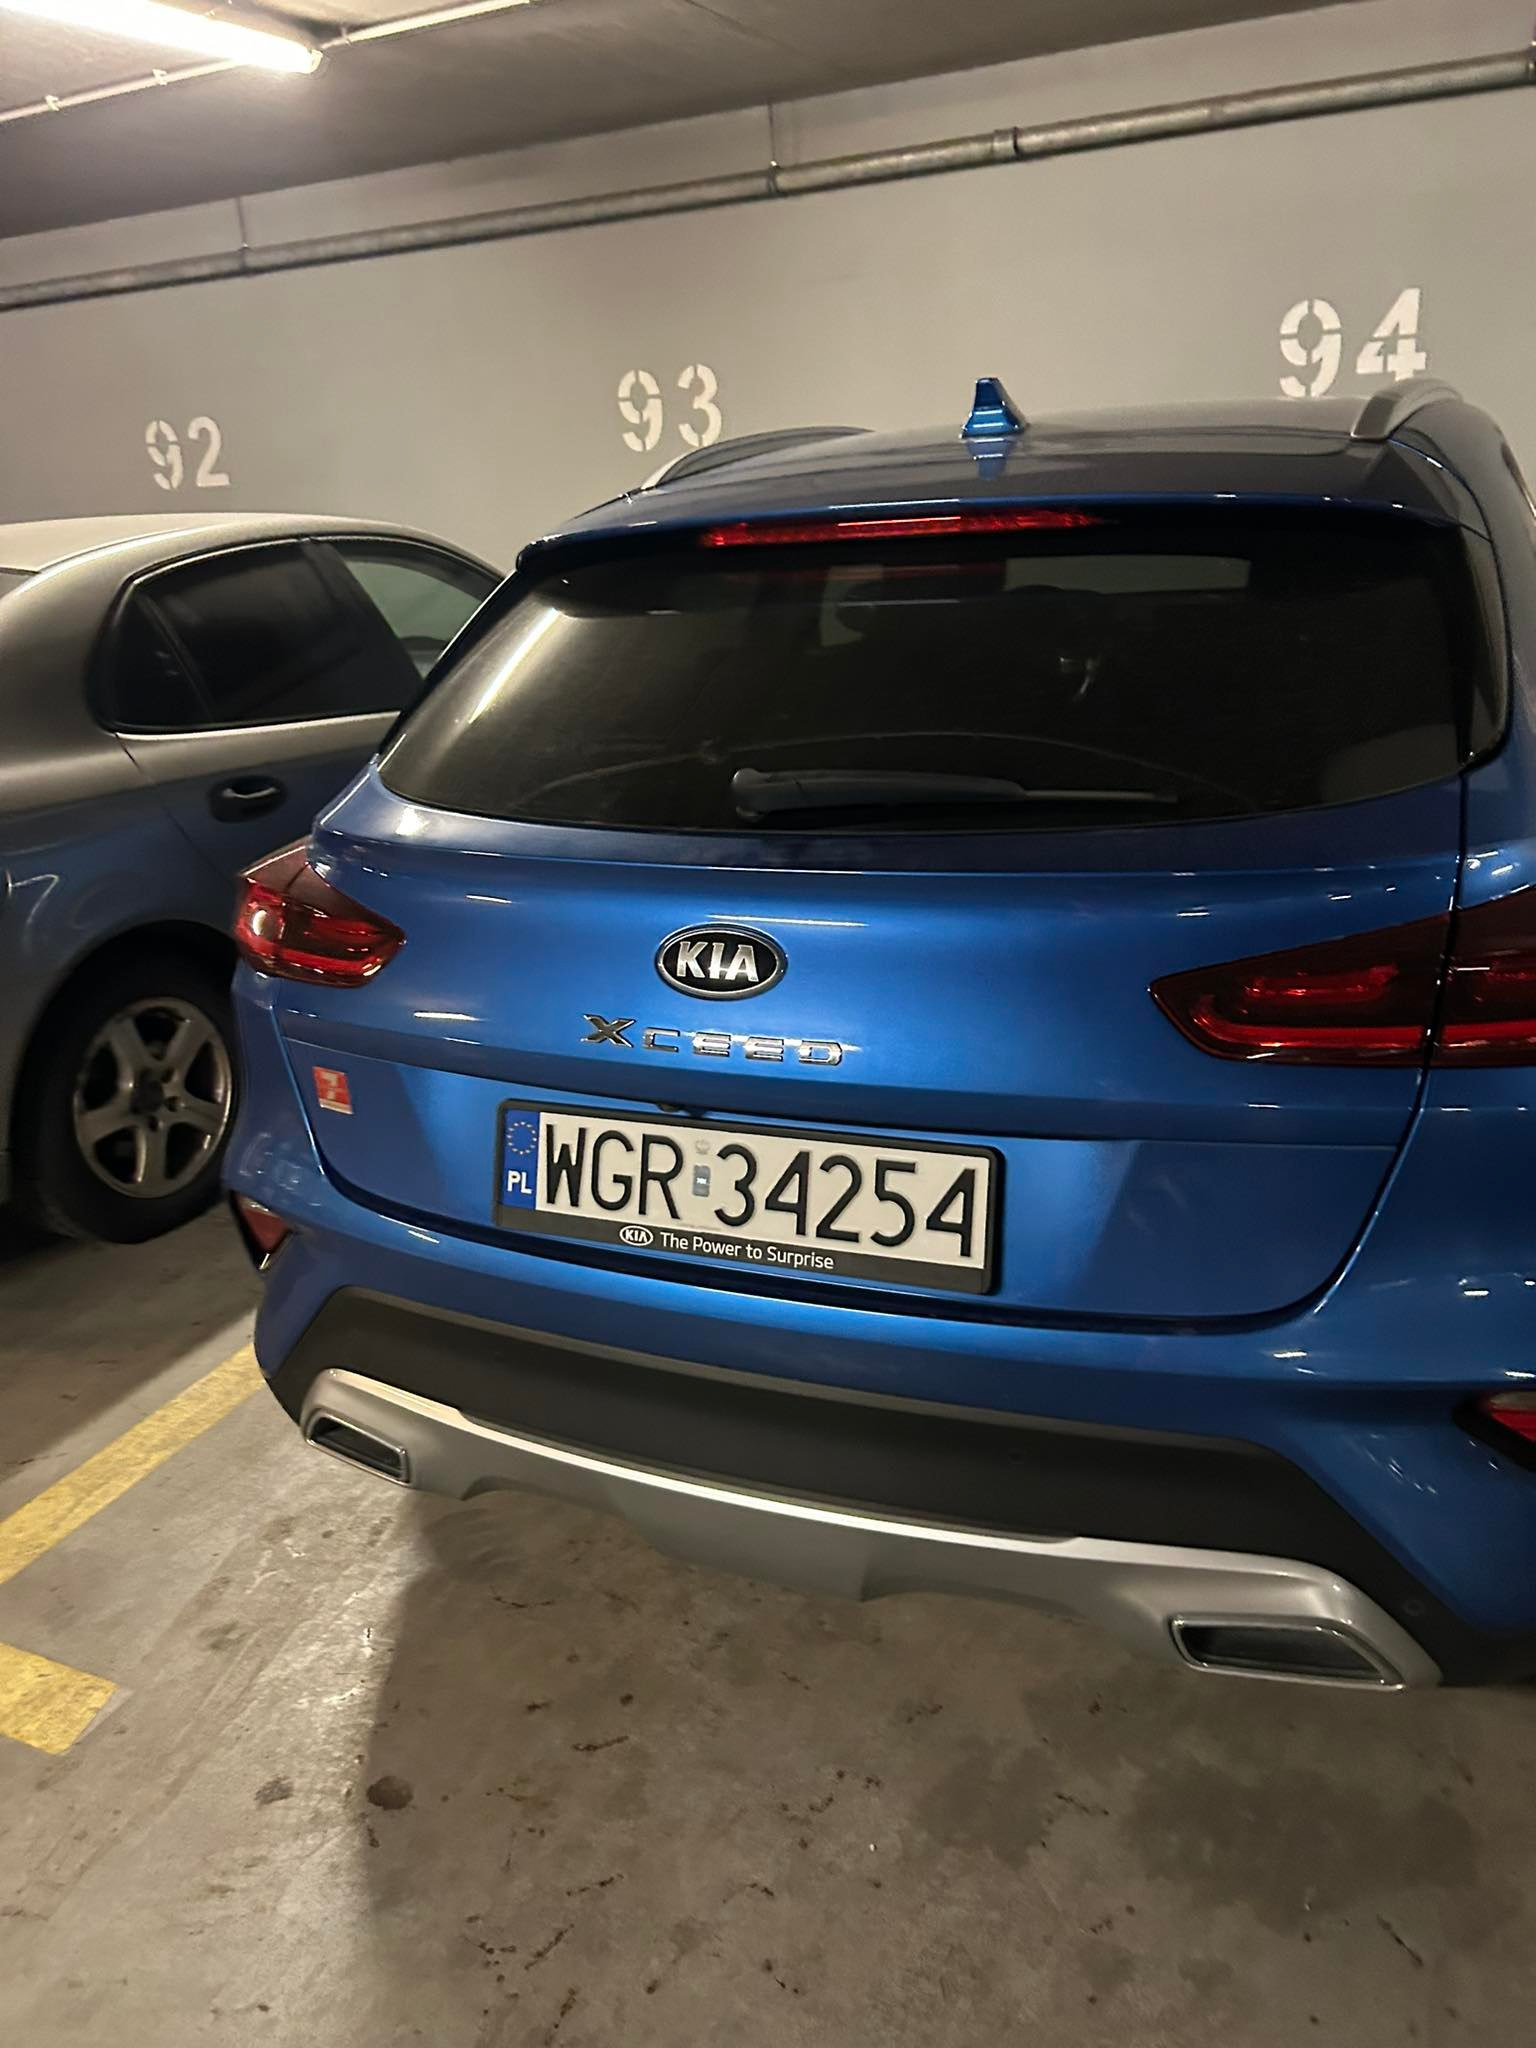number_plate: (494, 1101, 1012, 1312)
